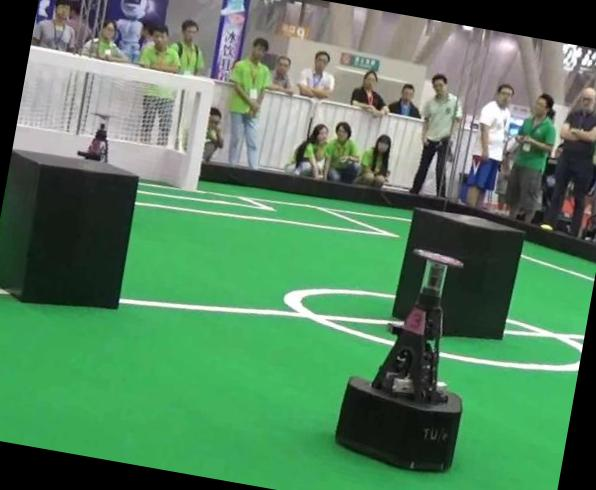goal: (183, 78, 215, 189)
robot: (335, 249, 464, 471)
